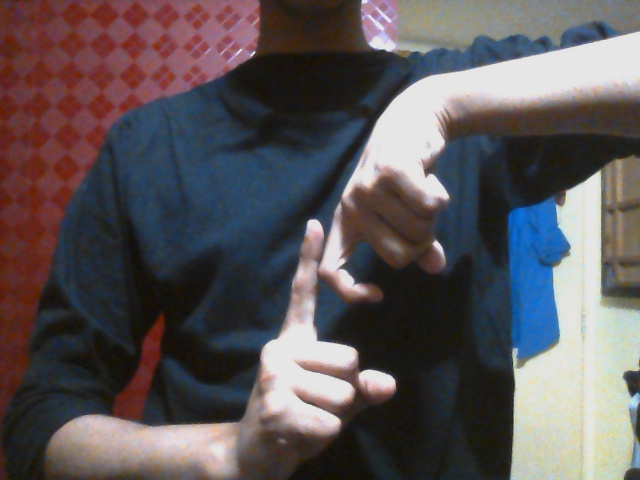K: (245, 161, 444, 463)
